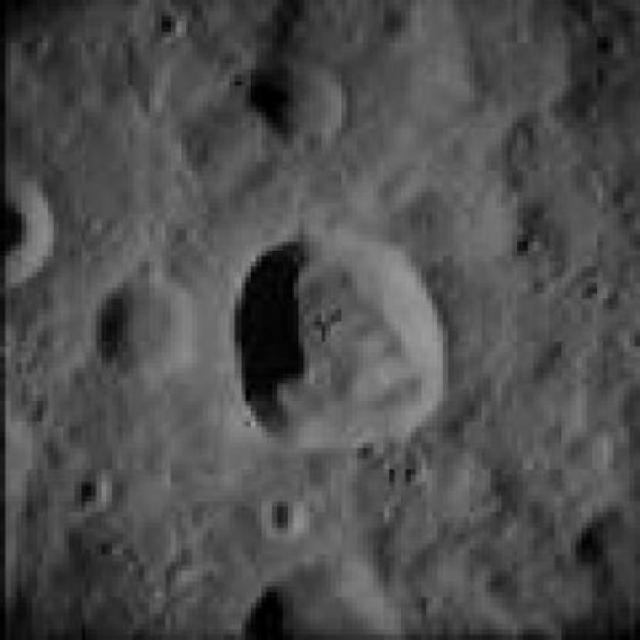crater: (232, 228, 448, 452), (82, 274, 192, 380)
